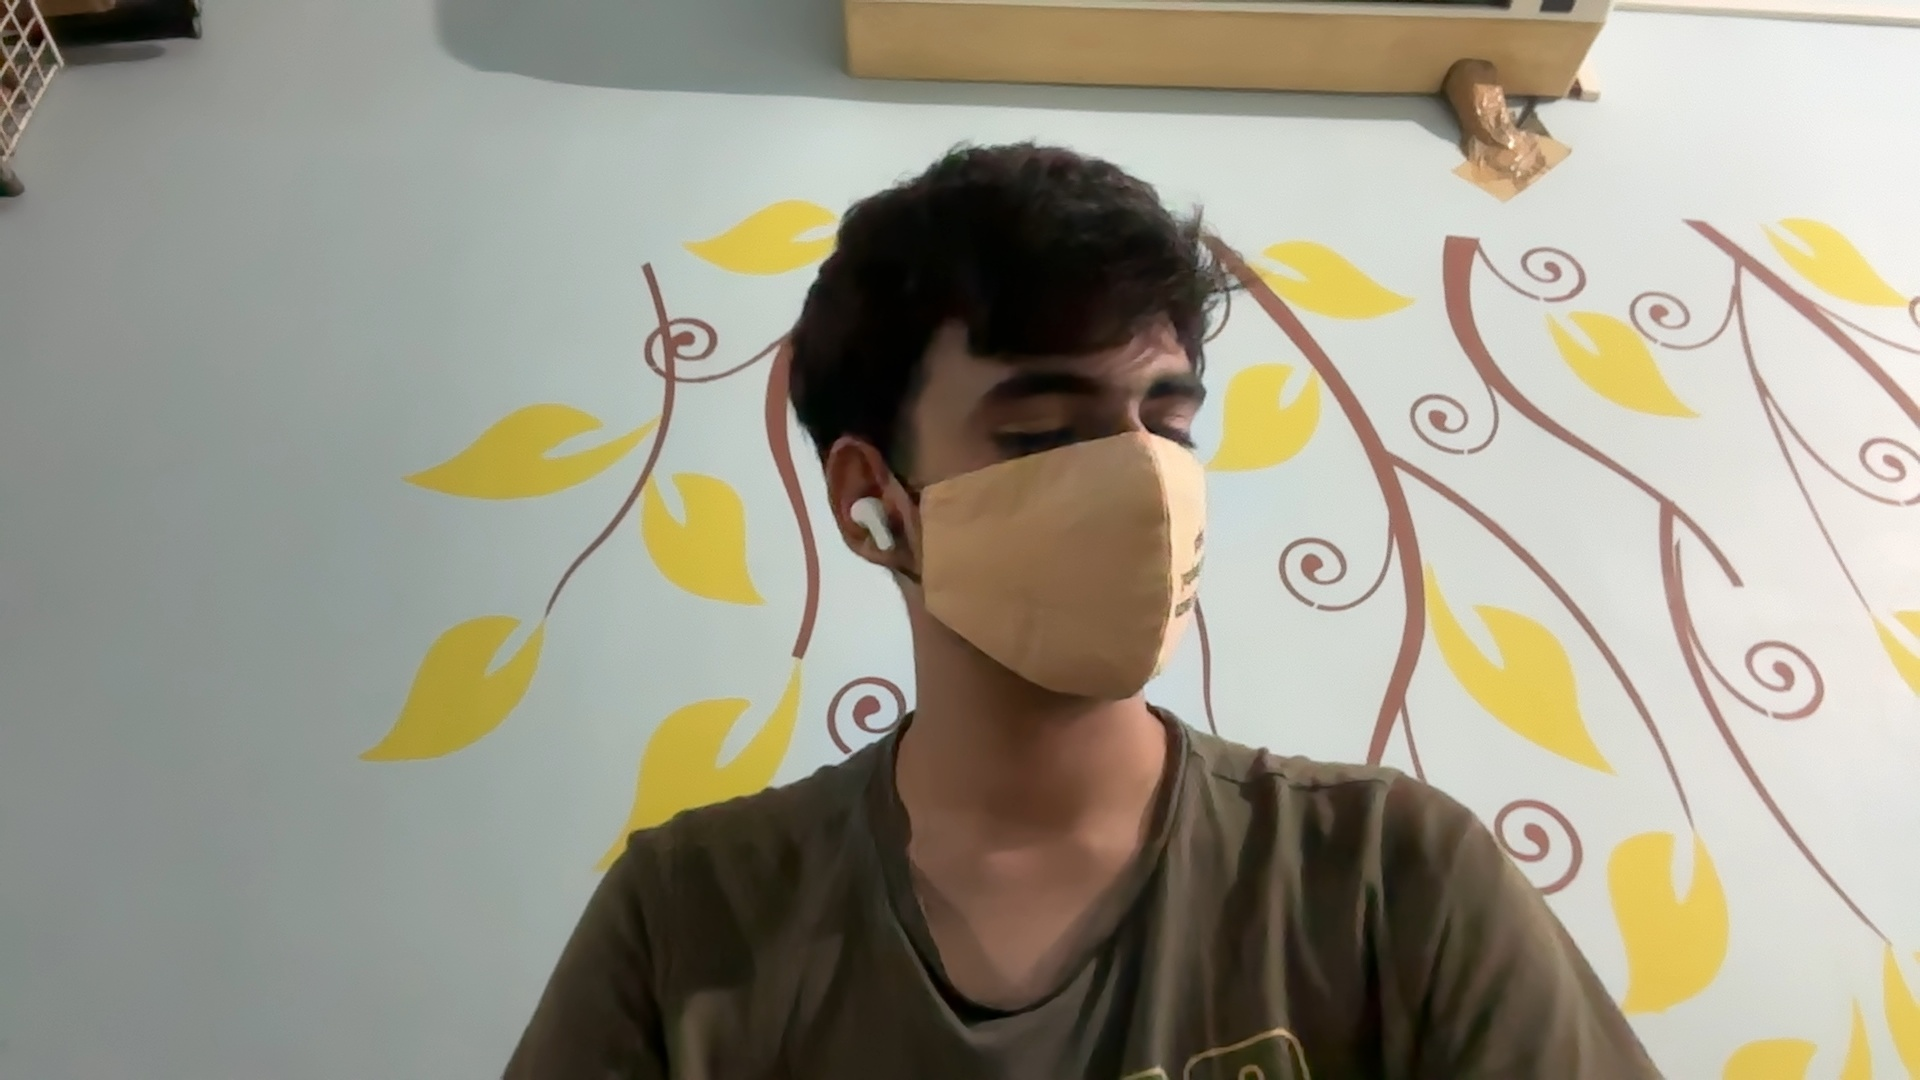Mask: (935, 448, 1234, 695)
